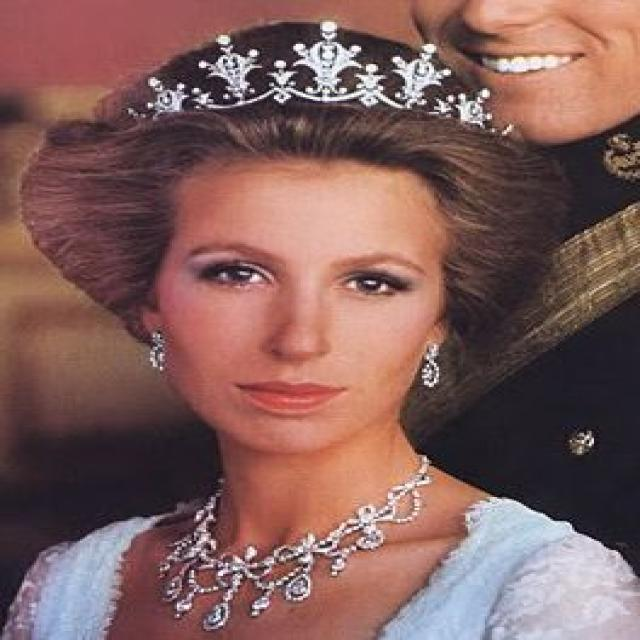Earring: (404, 314, 454, 389), (137, 324, 179, 376)
